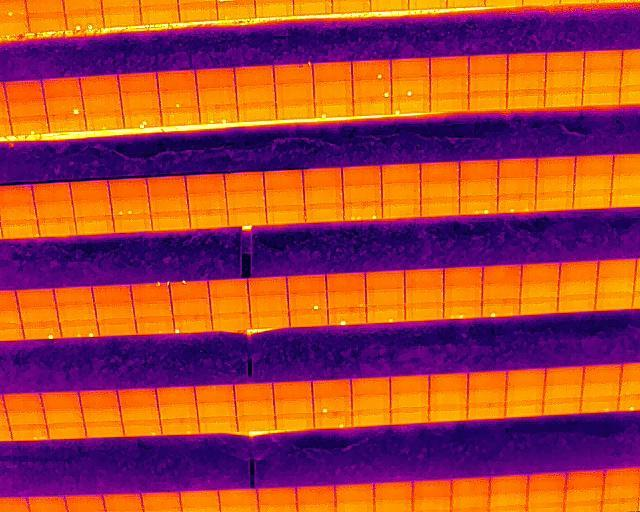Cell: (352, 60, 391, 81), (327, 308, 366, 327), (44, 98, 85, 116), (170, 281, 209, 299), (288, 293, 327, 311), (174, 315, 213, 333), (392, 79, 431, 97), (367, 306, 405, 324), (10, 116, 47, 134), (353, 81, 392, 98), (159, 91, 198, 108), (391, 97, 430, 114), (579, 396, 618, 413), (23, 324, 62, 340), (123, 420, 162, 436), (315, 101, 353, 117), (314, 397, 352, 413), (482, 302, 519, 318), (161, 420, 200, 435), (314, 413, 352, 428)
Cell-Multi: (66, 10, 103, 30), (199, 105, 238, 123), (459, 196, 498, 214), (111, 197, 150, 215), (344, 203, 382, 221), (132, 283, 170, 301), (61, 321, 99, 339), (9, 425, 50, 441), (497, 195, 535, 212), (444, 302, 483, 318), (124, 111, 162, 127)
No-Anomaly: (303, 167, 343, 188), (235, 65, 274, 86), (273, 63, 313, 83), (157, 71, 197, 91), (584, 49, 622, 70), (366, 270, 405, 290), (595, 291, 634, 311), (545, 52, 584, 72), (391, 59, 430, 79), (459, 159, 498, 179), (264, 170, 303, 190), (335, 485, 374, 505), (297, 486, 336, 506), (92, 284, 133, 303), (33, 182, 70, 203), (508, 52, 546, 72), (42, 79, 82, 98), (314, 81, 352, 101), (275, 83, 315, 102), (421, 161, 459, 181), (343, 166, 381, 186), (147, 176, 187, 195), (382, 200, 421, 219), (1, 220, 40, 239), (405, 269, 444, 288), (248, 277, 287, 296), (430, 58, 469, 77), (583, 70, 622, 89), (468, 73, 507, 92), (582, 87, 621, 106), (381, 164, 420, 183), (225, 172, 264, 191), (71, 180, 110, 199), (28, 11, 67, 30), (197, 69, 234, 89), (111, 178, 148, 198), (141, 494, 182, 512), (38, 218, 76, 237), (558, 294, 596, 313), (314, 63, 352, 82), (431, 76, 469, 95), (84, 94, 122, 113), (141, 4, 179, 23), (104, 7, 142, 26), (187, 174, 225, 193), (535, 192, 573, 211), (313, 378, 351, 397), (413, 480, 451, 499), (602, 487, 640, 506), (210, 297, 250, 315), (4, 80, 44, 98), (7, 98, 47, 116), (3, 394, 43, 412), (104, 494, 144, 512), (77, 390, 119, 407), (120, 75, 157, 94), (217, 1, 254, 20), (180, 1, 217, 20), (75, 216, 114, 234), (482, 266, 521, 284), (326, 275, 365, 293), (287, 276, 326, 294), (209, 279, 248, 297), (520, 280, 559, 298), (249, 295, 288, 313), (171, 298, 210, 316), (405, 303, 444, 321), (20, 306, 59, 324), (251, 311, 290, 329), (468, 55, 507, 73), (81, 77, 120, 95), (236, 86, 275, 104), (468, 92, 507, 110), (535, 174, 574, 192), (390, 374, 429, 392), (351, 376, 390, 394), (235, 382, 274, 400), (119, 389, 158, 407), (528, 474, 567, 492), (489, 476, 528, 494), (120, 93, 161, 110), (85, 420, 126, 437), (218, 490, 259, 507), (180, 491, 221, 508), (190, 210, 228, 228), (445, 267, 483, 285), (482, 285, 520, 303), (134, 300, 172, 318), (96, 303, 134, 321), (58, 304, 96, 322), (290, 310, 328, 328), (508, 73, 546, 91), (198, 87, 236, 105), (544, 89, 582, 107), (238, 104, 276, 122), (575, 156, 613, 174), (498, 159, 536, 177), (498, 177, 536, 195), (460, 179, 498, 197), (188, 193, 226, 211), (429, 373, 467, 391), (375, 484, 413, 502), (566, 489, 604, 507), (304, 206, 344, 223), (520, 263, 560, 280), (264, 190, 304, 207), (0, 203, 37, 221), (55, 286, 92, 304), (18, 289, 55, 307), (508, 91, 545, 109), (573, 191, 610, 209), (421, 199, 460, 216), (72, 199, 111, 216), (151, 212, 190, 229), (597, 259, 636, 276), (559, 277, 598, 294), (443, 286, 482, 303), (519, 298, 558, 315), (582, 365, 621, 382), (421, 182, 460, 199), (382, 183, 421, 200), (343, 185, 382, 202), (226, 191, 265, 208), (274, 381, 313, 398), (351, 394, 390, 411), (566, 472, 605, 489), (450, 478, 489, 495), (258, 488, 297, 505), (489, 494, 528, 511), (1, 184, 34, 204), (36, 202, 74, 219), (267, 207, 305, 224), (113, 215, 151, 232), (545, 72, 583, 89), (430, 95, 468, 112), (353, 99, 391, 116), (276, 102, 314, 119), (537, 157, 575, 174), (574, 174, 612, 191), (150, 195, 188, 212), (42, 391, 80, 408), (504, 401, 542, 418), (527, 492, 565, 509), (64, 497, 107, 512), (160, 108, 200, 124), (274, 398, 314, 414), (235, 400, 275, 416), (82, 406, 122, 422), (136, 318, 173, 335), (545, 367, 582, 384), (256, 0, 293, 17), (227, 209, 266, 225), (212, 314, 251, 330), (304, 189, 343, 205), (506, 370, 545, 386), (467, 373, 506, 389), (581, 382, 620, 398), (505, 386, 544, 402), (196, 386, 235, 402), (390, 392, 429, 408), (542, 399, 581, 415), (159, 403, 198, 419), (390, 409, 429, 425), (8, 410, 47, 426), (351, 411, 390, 427), (451, 496, 490, 512), (27, 497, 68, 512), (560, 261, 598, 277), (99, 320, 137, 336), (48, 116, 86, 132), (157, 387, 195, 403), (429, 405, 467, 421), (276, 414, 314, 430), (48, 423, 86, 439), (467, 404, 504, 420), (46, 408, 83, 424), (603, 471, 640, 487), (596, 276, 635, 291), (405, 288, 444, 303), (366, 290, 405, 305), (85, 113, 124, 128), (544, 384, 583, 399), (196, 402, 235, 417), (199, 418, 238, 433), (467, 389, 505, 404), (429, 390, 467, 405), (237, 416, 277, 430), (327, 293, 366, 307), (120, 406, 159, 420)
